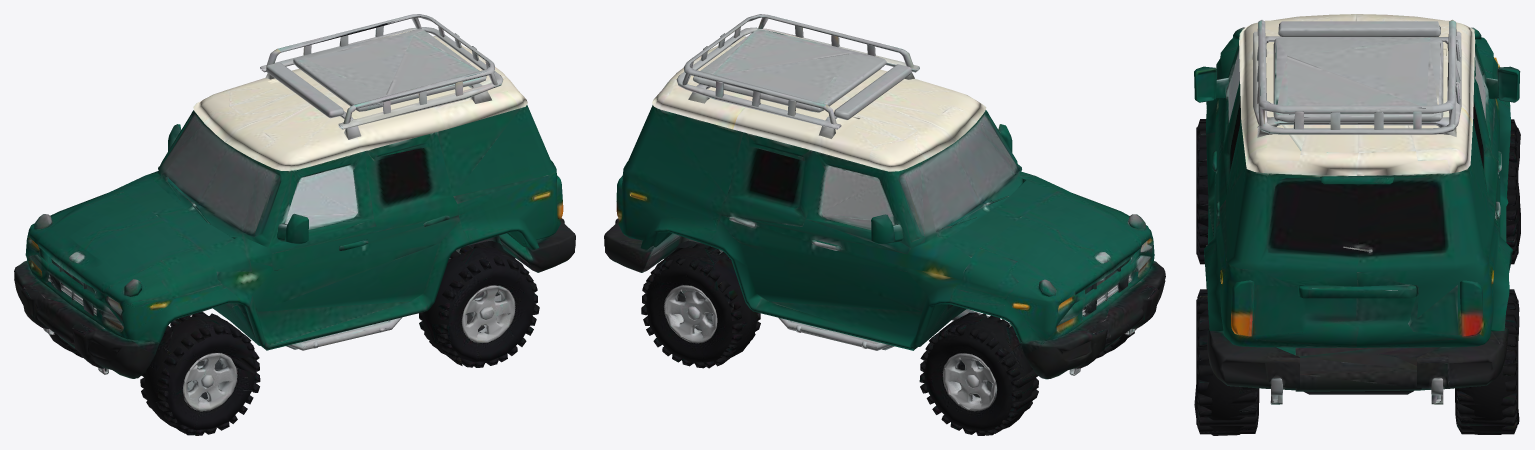
File: trafficSuv.0013779f.glb
3 views of the same model, side by side, from view 1: azimuth 30°, elevation 25°; view 2: azimuth 150°, elevation 25°; view 3: azimuth 270°, elevation 25° (orthographic). The views are drawn at different scales.
Bounding box in the file's own units: 0.9585 × 0.5225 × 0.4507.
1 material, 1 textured.
